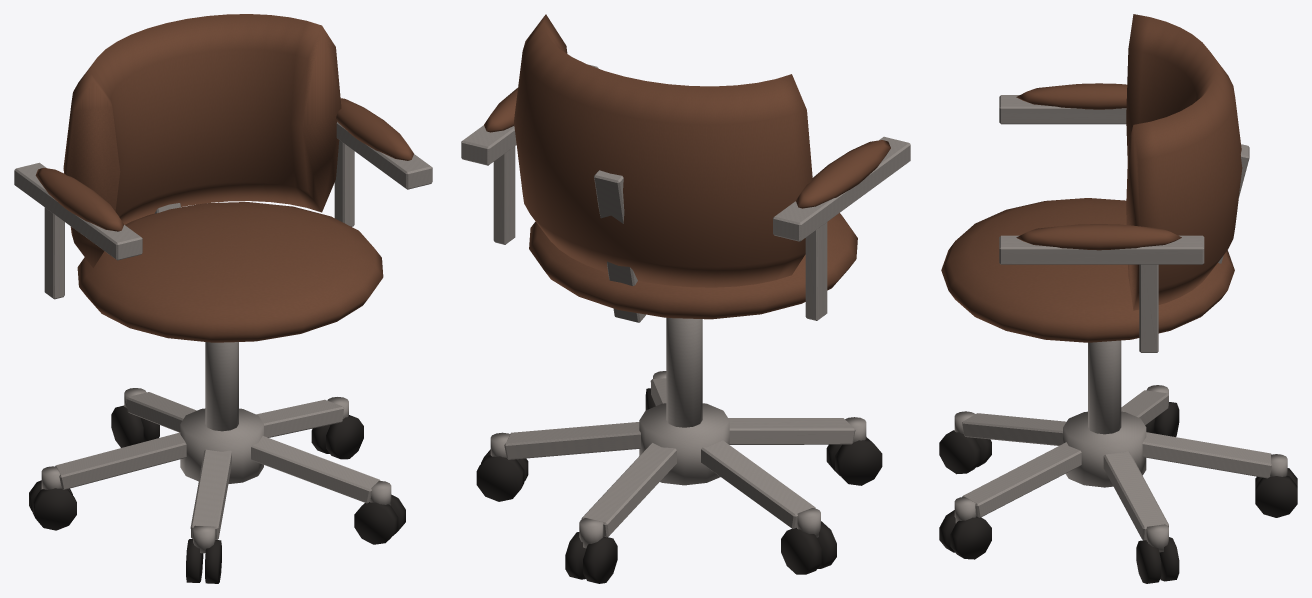
File: chair.glb
The picture shows the model from 3 angles, left to right: view 1: azimuth 30°, elevation 25°; view 2: azimuth 150°, elevation 25°; view 3: azimuth 270°, elevation 25°; orthographic projection. The views are drawn at different scales.
Visible parts, largest first — view 1: Low curved leather back, Leather seat cushion, Silver base hub, Five star silver spoke.003, Five star silver spoke.001, Silver gas lift, Silver armrest, Leather arm pad, Five star silver spoke.002, Leather arm pad.001, Five star silver spoke.004, Silver armrest.001 (+9 smaller); view 2: Low curved leather back, Leather seat cushion, Silver base hub, Silver gas lift, Five star silver spoke.004, Five star silver spoke.001, Five star silver spoke, Five star silver spoke.002, Silver armrest, Leather arm pad, Silver arm upright, Silver arm upright.001 (+10 smaller); view 3: Low curved leather back, Leather seat cushion, Silver armrest.001, Silver base hub, Five star silver spoke, Five star silver spoke.003, Leather arm pad.001, Silver gas lift, Five star silver spoke.004, Silver armrest, Five star silver spoke.002, Leather arm pad (+10 smaller).
Part boxes in pixels (x1,y1,x2,y2): Low curved leather back: (63, 14, 341, 267); Leather seat cushion: (77, 202, 383, 342); Silver base hub: (180, 408, 263, 483); Five star silver spoke.003: (251, 436, 380, 503); Five star silver spoke.001: (55, 432, 186, 489); Silver gas lift: (205, 342, 238, 431); Silver armrest: (14, 162, 142, 260); Leather arm pad: (35, 168, 123, 231); Five star silver spoke.002: (190, 449, 231, 539); Leather arm pad.001: (336, 98, 413, 160); Five star silver spoke.004: (256, 399, 343, 437); Silver armrest.001: (336, 122, 432, 189); Low curved leather back: (514, 14, 812, 287); Leather seat cushion: (529, 213, 857, 319); Silver base hub: (639, 403, 729, 485); Silver gas lift: (666, 318, 702, 427); Five star silver spoke.004: (504, 422, 640, 459); Five star silver spoke.001: (701, 440, 815, 528); Five star silver spoke: (581, 443, 676, 537); Five star silver spoke.002: (728, 418, 855, 444); Silver armrest: (773, 136, 910, 241); Leather arm pad: (796, 140, 890, 208); Silver arm upright: (805, 222, 827, 320); Silver arm upright.001: (493, 146, 515, 244); Low curved leather back: (1126, 14, 1242, 310); Leather seat cushion: (941, 198, 1234, 342); Silver armrest.001: (999, 235, 1204, 264); Silver base hub: (1063, 411, 1146, 487); Five star silver spoke: (1142, 432, 1272, 478); Five star silver spoke.003: (962, 442, 1081, 517); Leather arm pad.001: (1016, 224, 1181, 250); Silver gas lift: (1088, 340, 1121, 434); Five star silver spoke.004: (1103, 451, 1168, 540); Silver armrest: (999, 95, 1126, 124); Five star silver spoke.002: (962, 413, 1066, 445); Leather arm pad: (1016, 83, 1127, 109).
Size of the model in its own units: 0.6796 by 0.88 by 0.6464.
3 materials, 2 textured.
